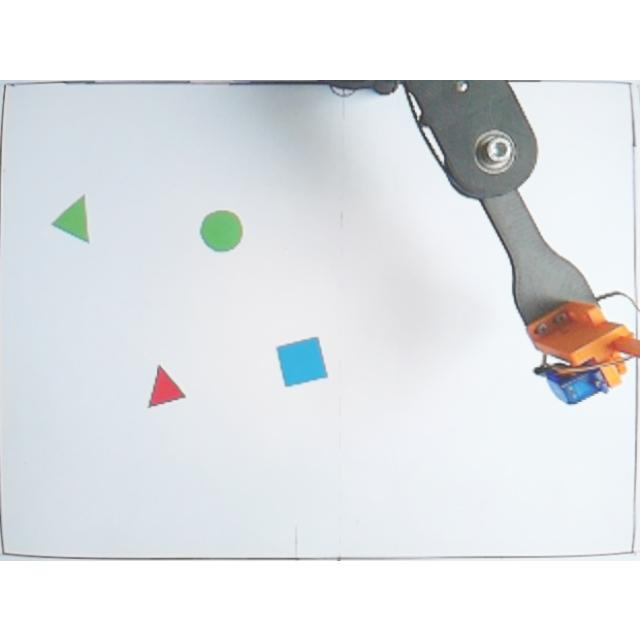blueSquare: (276, 335, 330, 387)
greenCircle: (200, 208, 244, 252)
greenTriangle: (50, 192, 91, 244)
redTriangle: (148, 362, 186, 410)
